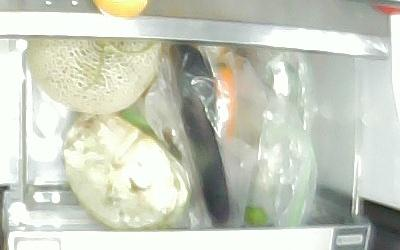cabbage: (61, 112, 192, 230)
carrot_vinyl: (209, 61, 238, 144)
eggplant_vinyl: (167, 42, 231, 228)
melon: (25, 37, 162, 114)
